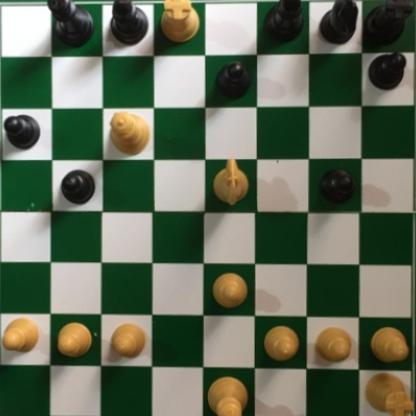black-bishop: (109, 0, 150, 47), (264, 0, 305, 45)
black-king: (44, 0, 93, 50)
black-knight: (319, 0, 360, 47)
black-pawn: (366, 49, 409, 91), (213, 59, 250, 102), (1, 111, 41, 150), (318, 165, 355, 204), (60, 165, 96, 204)
black-rook: (361, 0, 413, 47)
white-king: (206, 375, 253, 416)
white-knight: (212, 156, 251, 208)
white-pawn: (312, 325, 353, 366), (261, 322, 302, 362), (0, 314, 42, 351), (56, 318, 92, 360), (210, 273, 251, 309), (367, 323, 408, 359), (110, 320, 146, 359)
white-queen: (108, 109, 150, 154)
white-rook: (362, 369, 413, 416), (159, 0, 195, 46)
